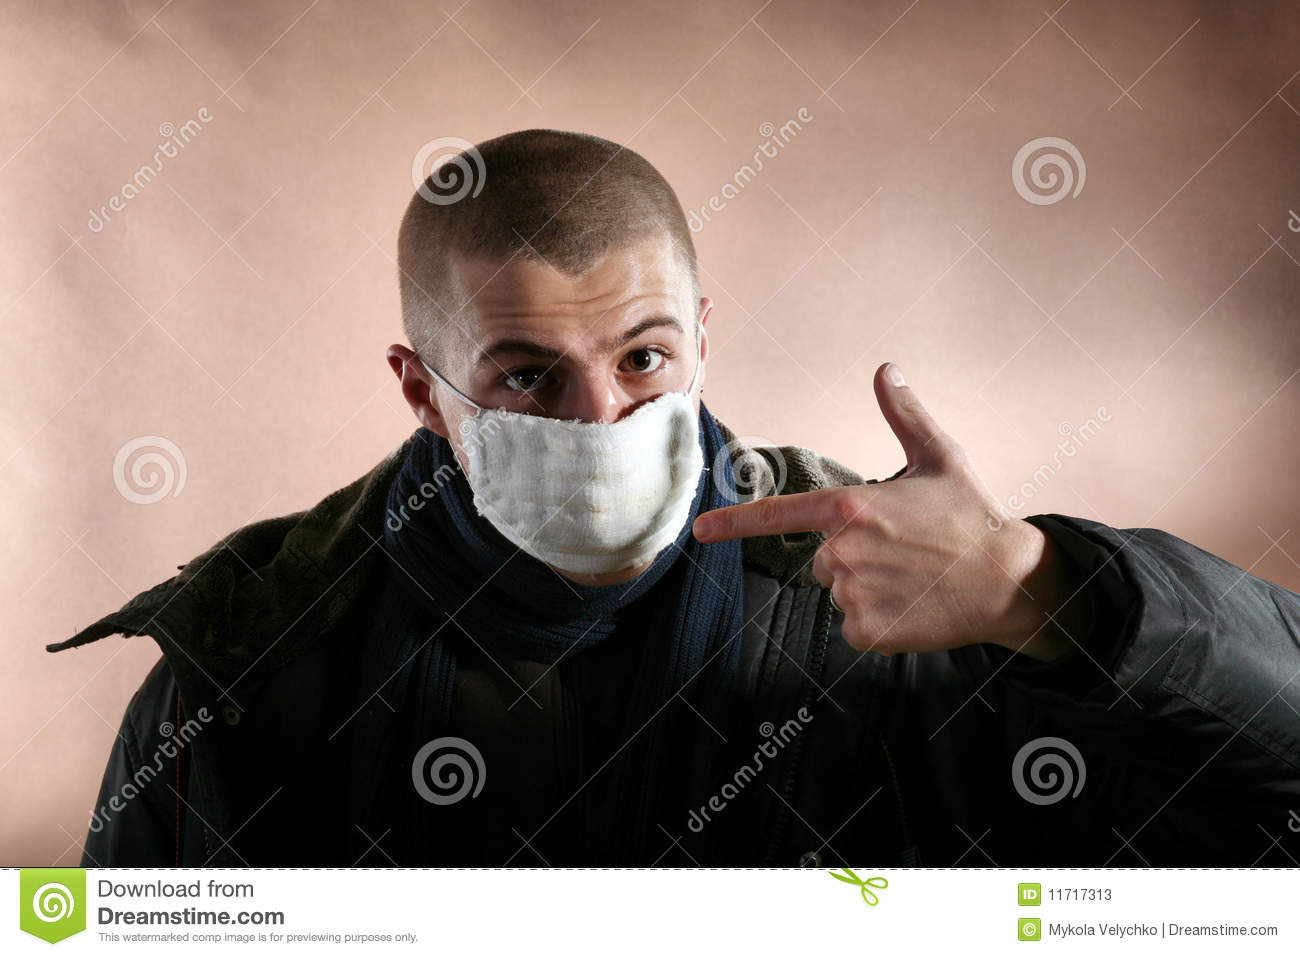mask: (463, 391, 701, 572)
